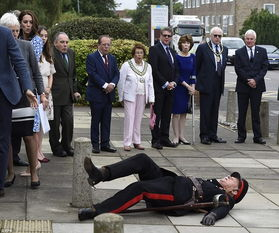10+: (1, 5, 277, 229)
down: (73, 142, 253, 229)
